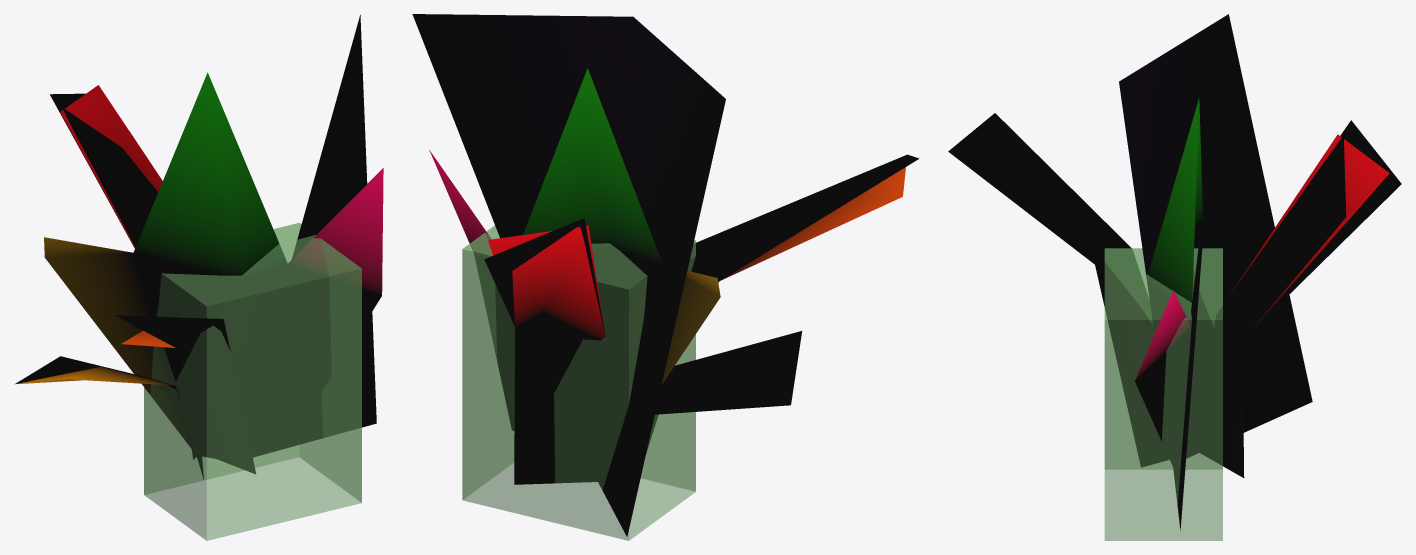
Rendered from lush_ferns_02_a.dae.
3 renders of one model, left to right at view 1: azimuth 30°, elevation 25°; view 2: azimuth 150°, elevation 25°; view 3: azimuth 270°, elevation 25°, orthographic. The views are drawn at different scales.
Parts seen in each view (by area): view 1: Colmesh-1, sword_fern_01_a200, sword_fern_01_a150; view 2: sword_fern_01_a150, Colmesh-1, sword_fern_01_a200; view 3: sword_fern_01_a150, Colmesh-1, sword_fern_01_a200.
Boxes of the visible parts, bbox=[...] form: Colmesh-1: bbox=[144, 223, 361, 540]; sword_fern_01_a200: bbox=[15, 72, 383, 459]; sword_fern_01_a150: bbox=[15, 15, 376, 479]; sword_fern_01_a150: bbox=[412, 14, 919, 536]; Colmesh-1: bbox=[462, 225, 695, 540]; sword_fern_01_a200: bbox=[429, 68, 905, 484]; sword_fern_01_a150: bbox=[948, 14, 1401, 530]; Colmesh-1: bbox=[1104, 248, 1222, 540]; sword_fern_01_a200: bbox=[1095, 98, 1389, 477].
Size of the model in its own units: 0.9995 by 1.15 by 1.15.
